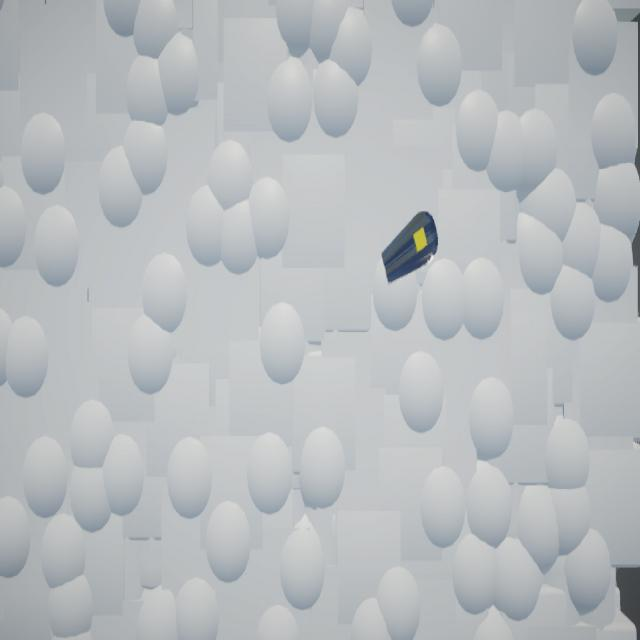handle_folk: (382, 212, 439, 286)
